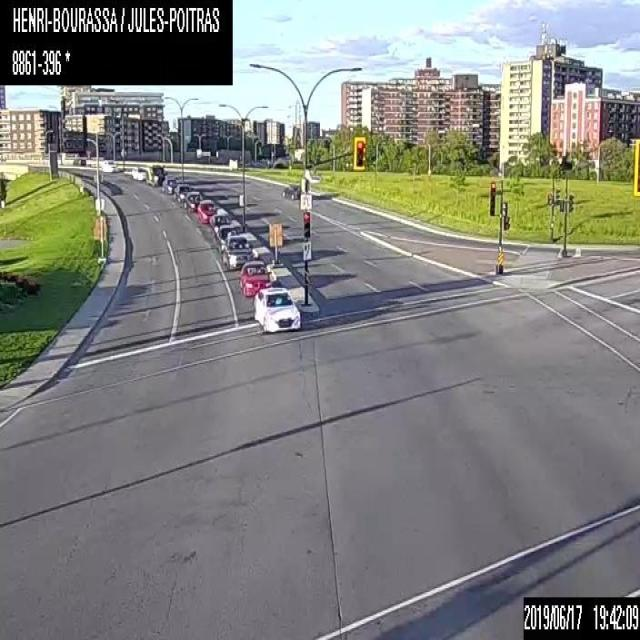vehicle: (254, 286, 299, 330), (220, 234, 254, 268), (239, 259, 271, 295), (215, 225, 237, 252), (209, 212, 230, 240), (144, 164, 167, 186), (196, 198, 217, 222), (182, 190, 202, 212), (173, 182, 190, 202), (281, 184, 302, 198), (162, 176, 178, 193), (99, 157, 117, 172), (130, 165, 145, 180)
